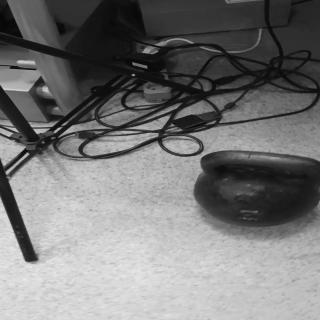kettlebell: (196, 151, 320, 227)
